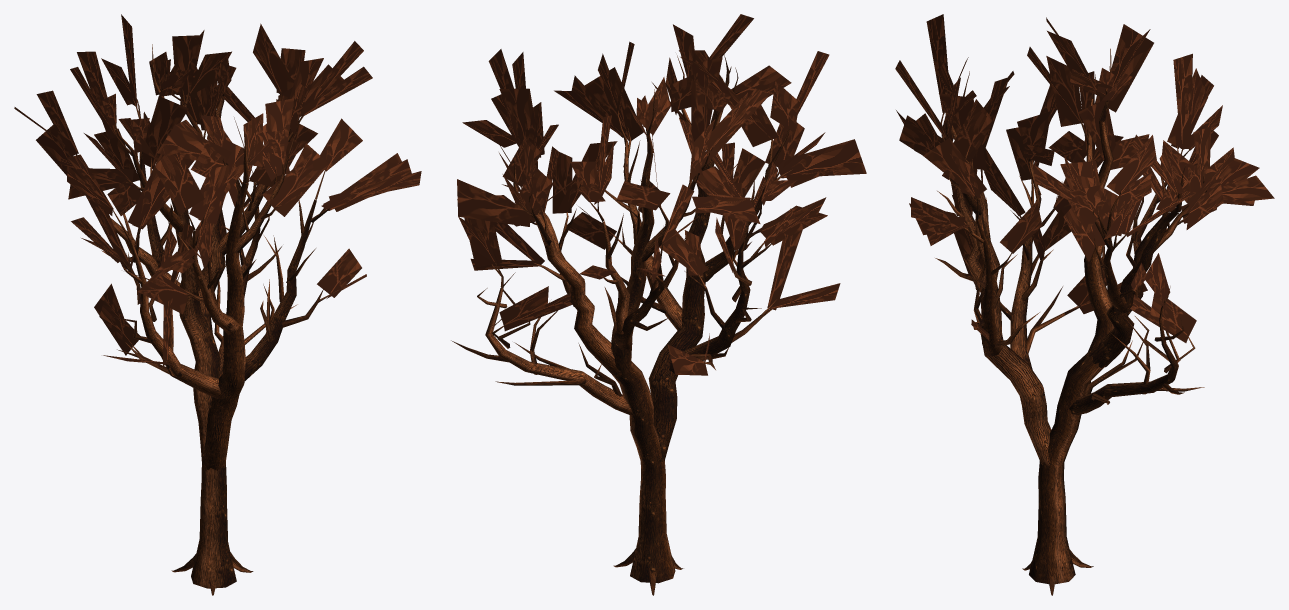
File: mm7_deco_7tree24.glb
3 views of the same model, side by side, from view 1: azimuth 30°, elevation 25°; view 2: azimuth 150°, elevation 25°; view 3: azimuth 270°, elevation 25° (orthographic).
Parts seen in each view (by area): view 1: Tree; view 2: Tree; view 3: Tree.
Part boxes in pixels (x1,y1,x2,y2): Tree: [14, 14, 421, 595]; Tree: [451, 14, 866, 595]; Tree: [895, 14, 1274, 595].
Bounding box in the file's own units: 4.84 × 7.92 × 5.26.
2 materials, 2 textured.
